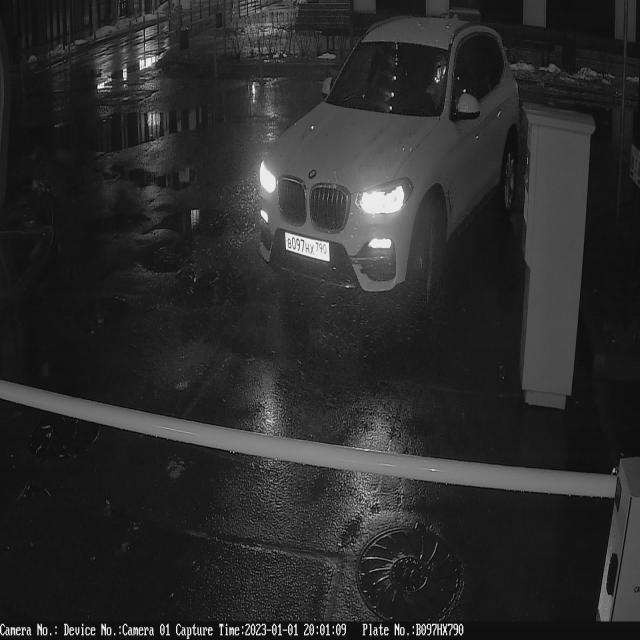car-plate-numbers: (281, 225, 337, 266)
